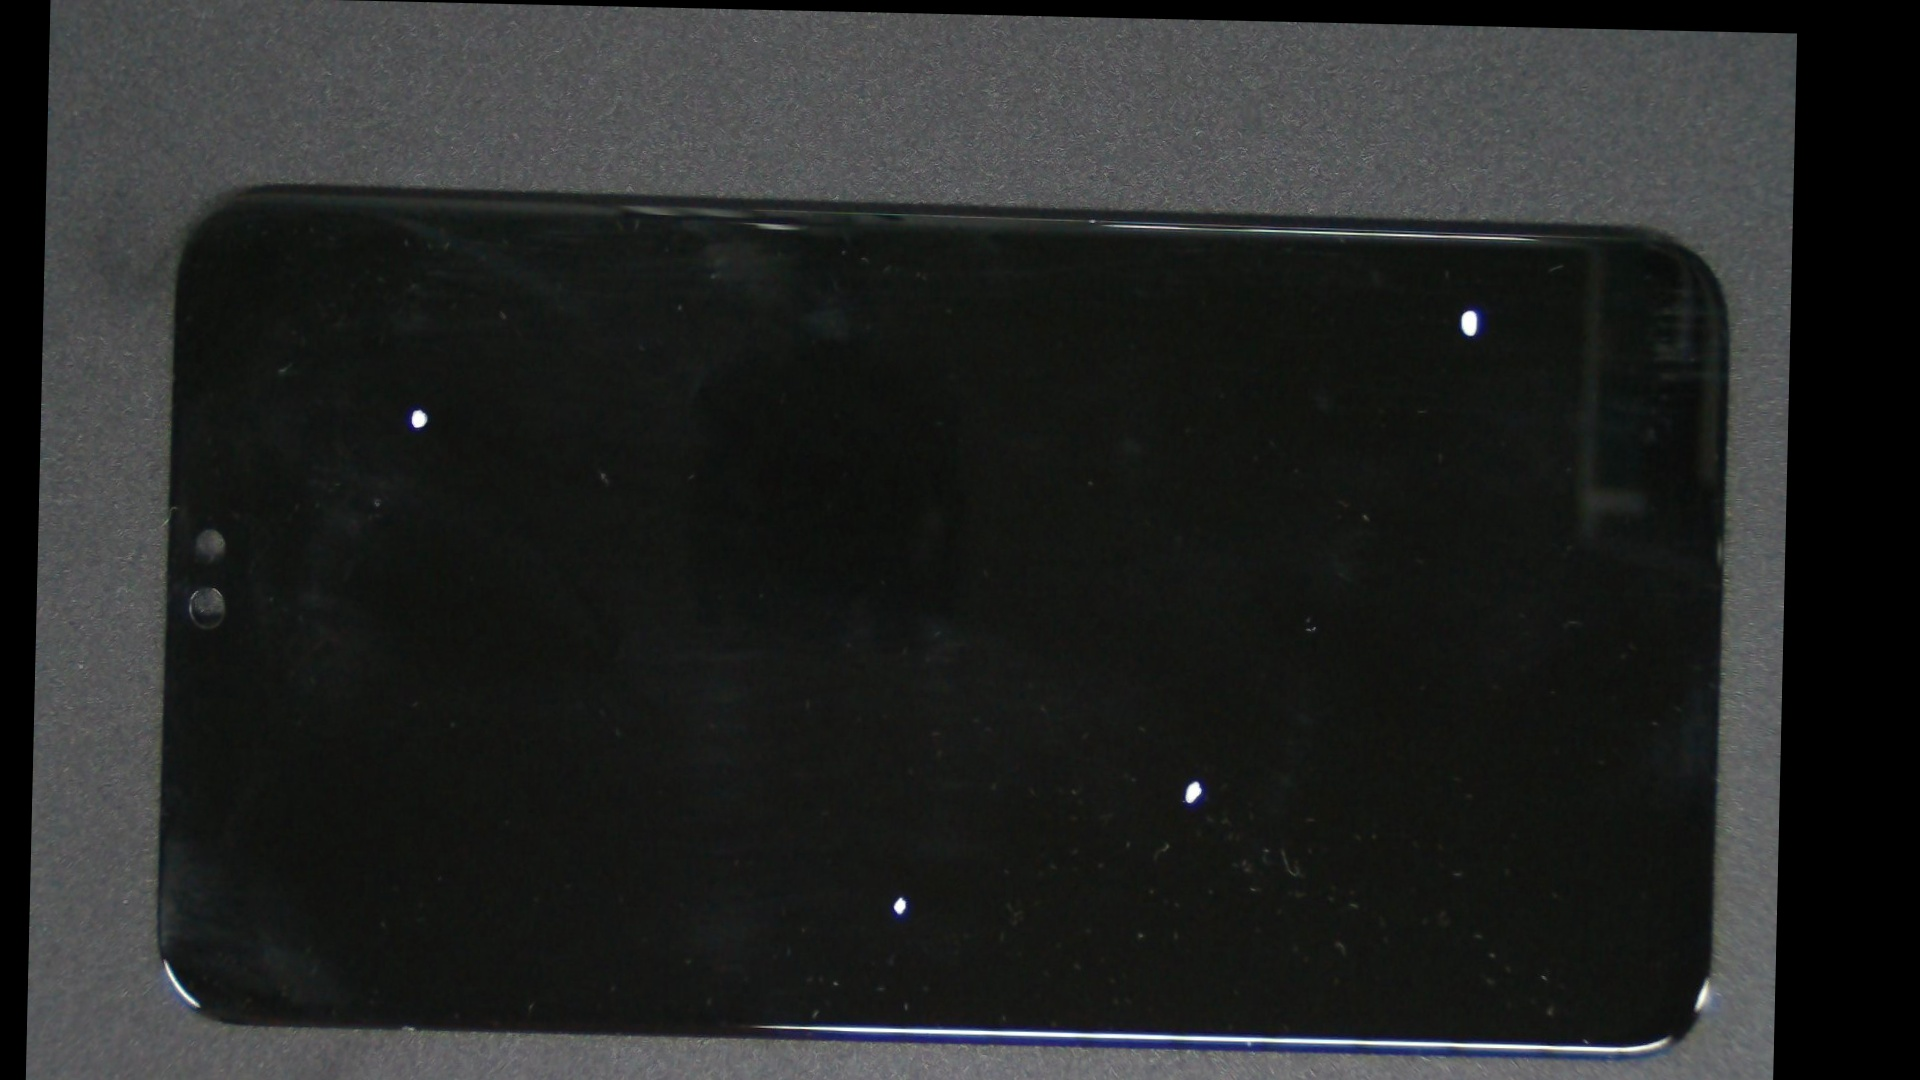oil: (607, 386, 1785, 1080), (460, 444, 1344, 1080), (756, 150, 1793, 458), (227, 200, 613, 616)
